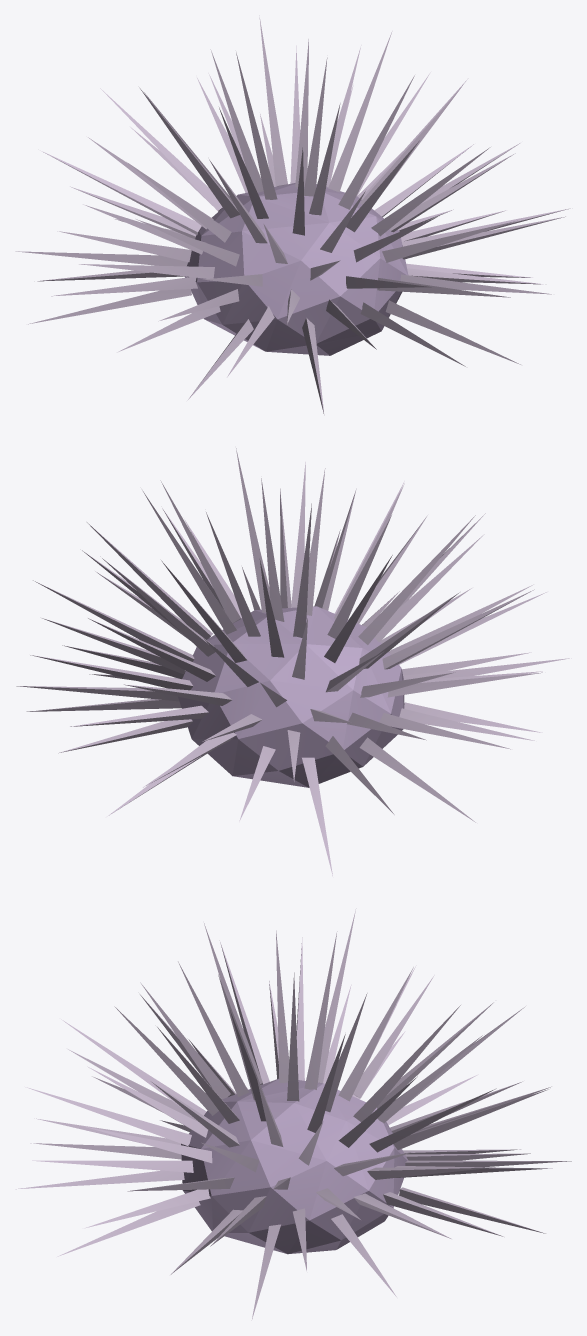
Rendered from urchin.glb.
The picture shows the model from 3 angles, top to bottom: view 1: azimuth 30°, elevation 25°; view 2: azimuth 150°, elevation 25°; view 3: azimuth 270°, elevation 25°; orthographic projection. The views are drawn at different scales.
Visible parts, largest first — view 1: base; view 2: base; view 3: base.
Boxes of the visible parts, x1,y1,x2,y2 form: base: (15,15,570,414); base: (16,448,571,876); base: (15,908,571,1320).
Bounding box in the file's own units: 0.2353 × 0.1384 × 0.2403.
